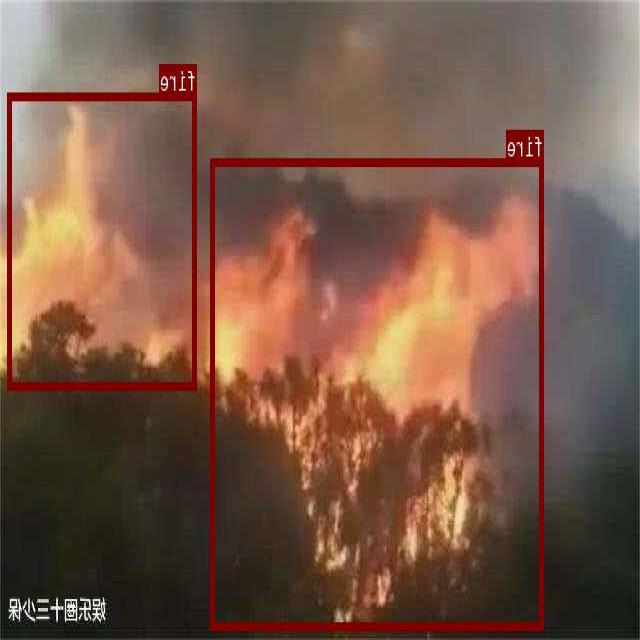fire: (212, 158, 544, 629), (9, 92, 197, 389)
